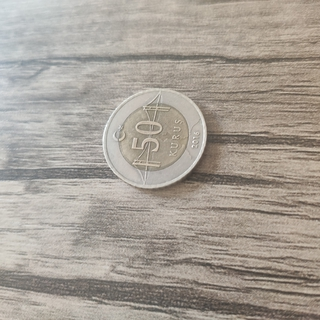50KURUS: (100, 86, 209, 192)
